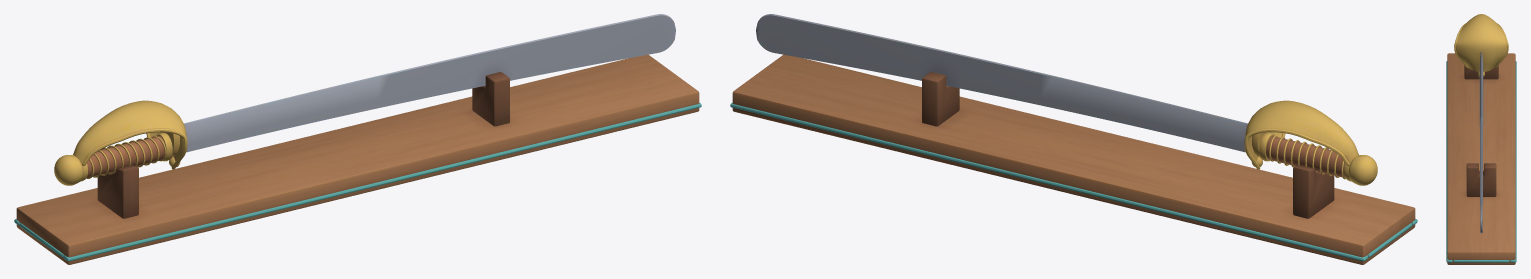
Rendered from sable_pirata.glb.
3 renders of one model, left to right at view 1: azimuth 30°, elevation 25°; view 2: azimuth 150°, elevation 25°; view 3: azimuth 270°, elevation 25°, orthographic. The views are drawn at different scales.
Parts seen in each view (by area): view 1: cutlass_body; view 2: cutlass_body; view 3: cutlass_body.
Part boxes in pixels (x1,y1,x2,y2): cutlass_body: [14, 14, 701, 264]; cutlass_body: [730, 14, 1417, 264]; cutlass_body: [1446, 14, 1516, 264].
Size of the model in its own units: 0.8349 by 0.148 by 0.124.
Materials: 1 (1 with a texture image).
